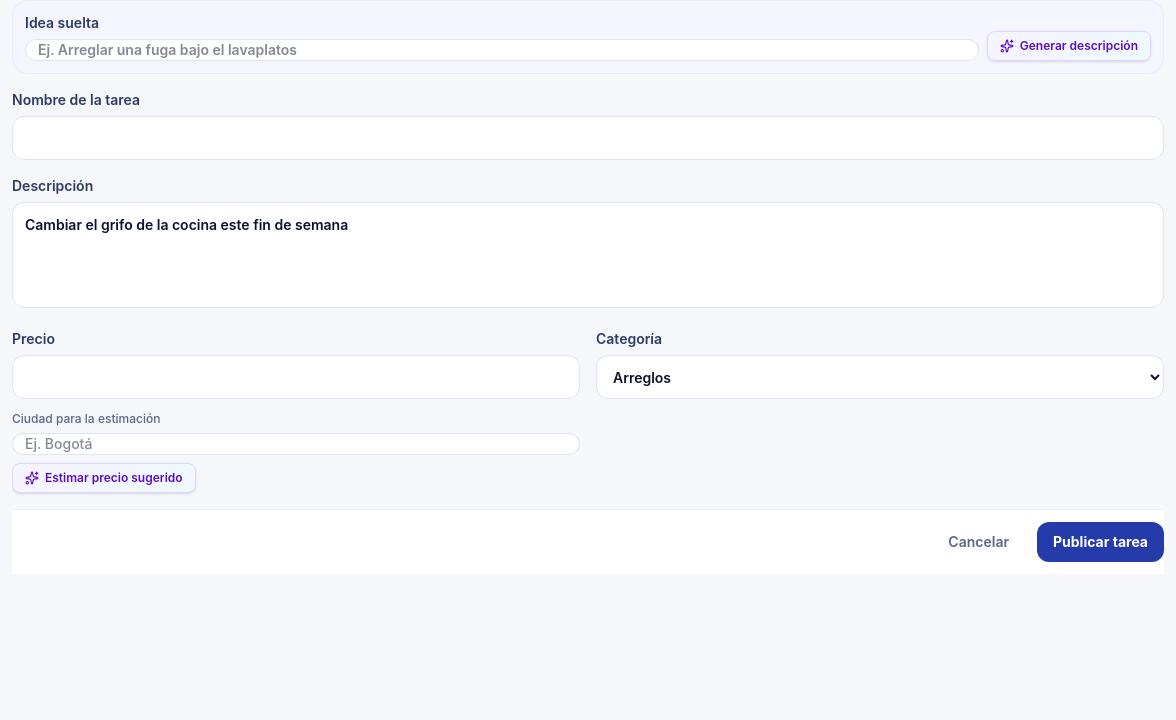
Test: TaskForm con AITA › estima el precio y propone el punto medio del rango
This screenshot has width=1176, height=720.
Type "Bogotá" into the field with placeholder "Ej. Bogotá" at [296, 444], box [12,433,580,455]
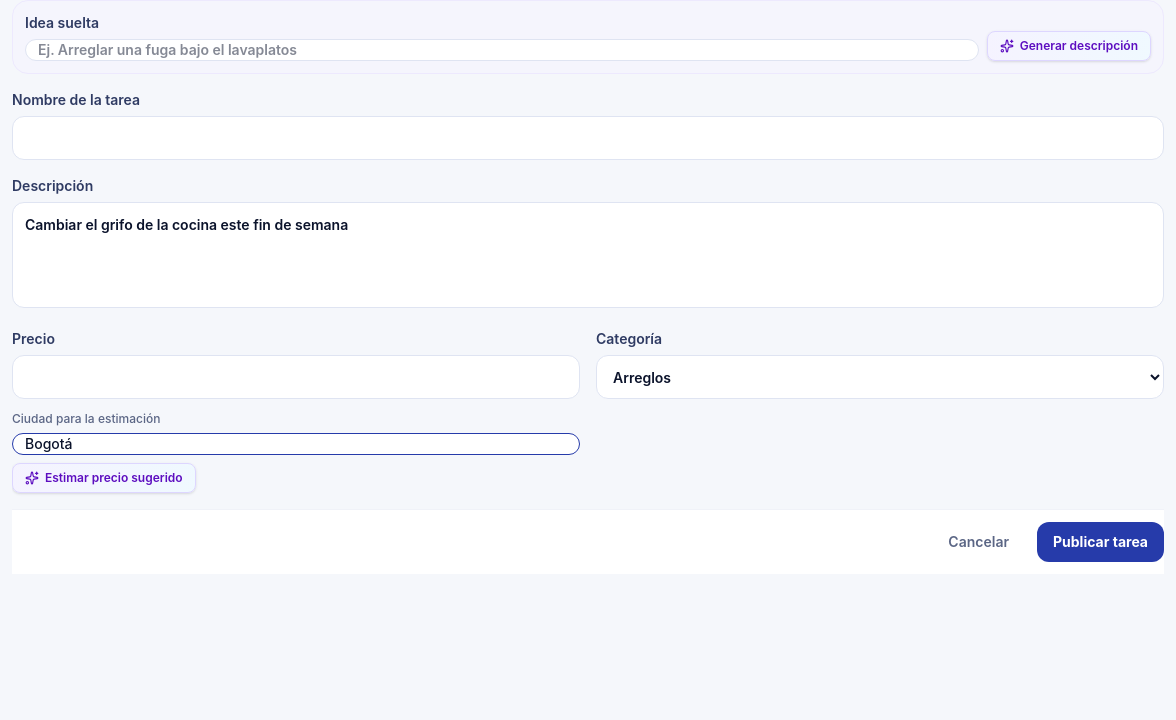
Click the button "Estimar precio sugerido" at [104, 478], box [12,463,196,493]
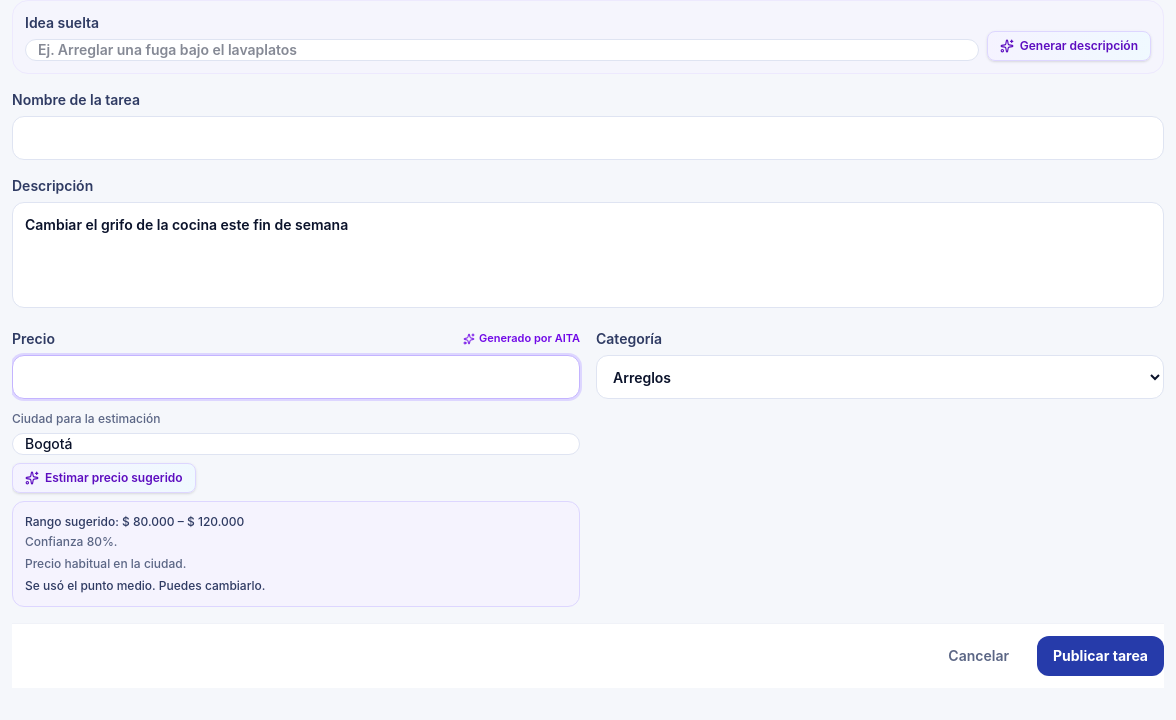
Now the text "Precio habitual en la ciudad." is shown, box [25,556,186,571]
